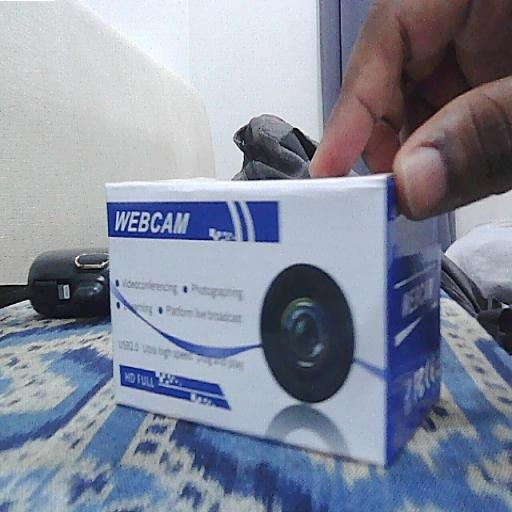webcam_box: (105, 173, 442, 470)
